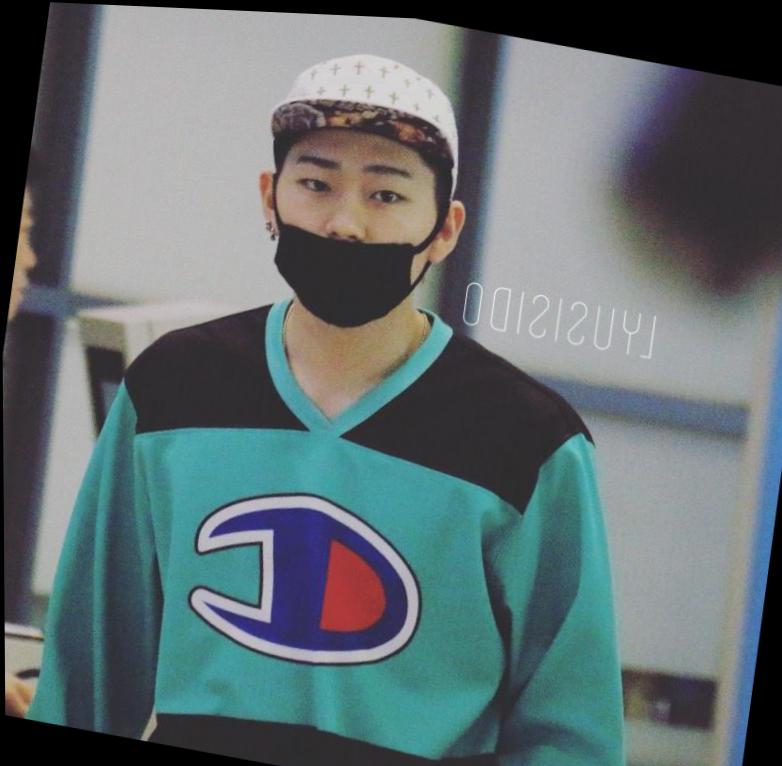WRONG: (250, 127, 453, 336)
